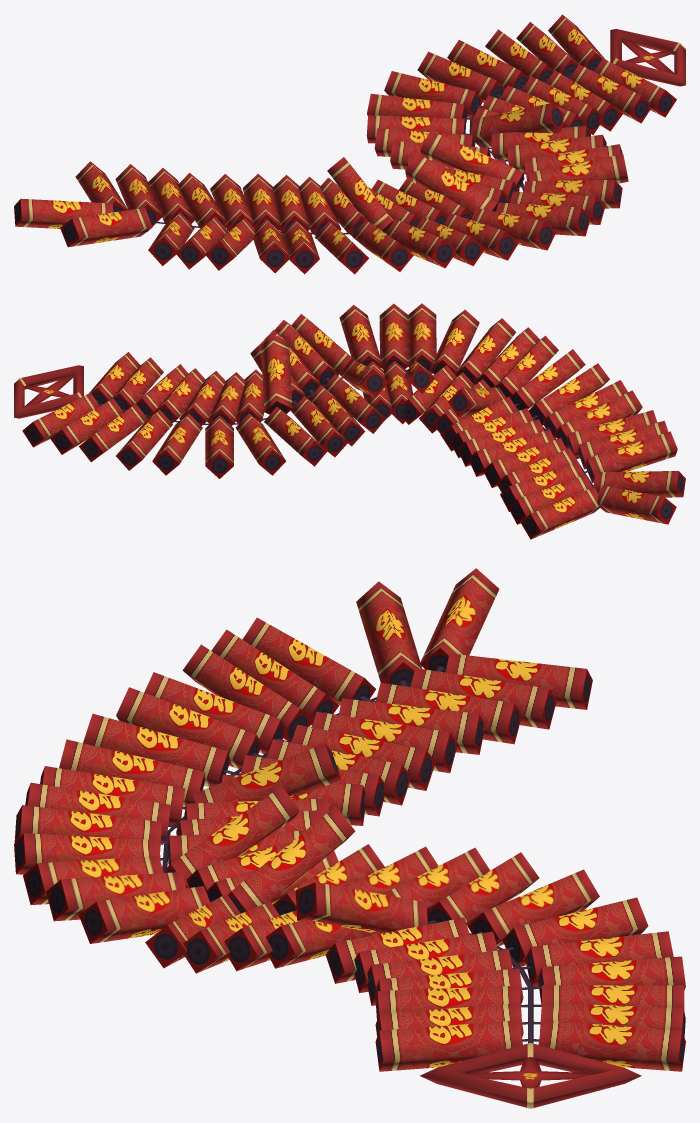
Rendered from paozhu_skin.FBX.
3 renders of one model, top to bottom at view 1: azimuth 30°, elevation 25°; view 2: azimuth 150°, elevation 25°; view 3: azimuth 270°, elevation 25°, orthographic. The views are drawn at different scales.
Visible parts, largest first — view 1: biaopao; view 2: biaopao; view 3: biaopao.
Boxes of the visible parts, box(x1,y1,x2,y2) form: biaopao: box(14, 14, 685, 274); biaopao: box(14, 303, 685, 539); biaopao: box(14, 568, 685, 1108).
Size of the model in its own units: 59.93 by 5.35 by 34.42.
